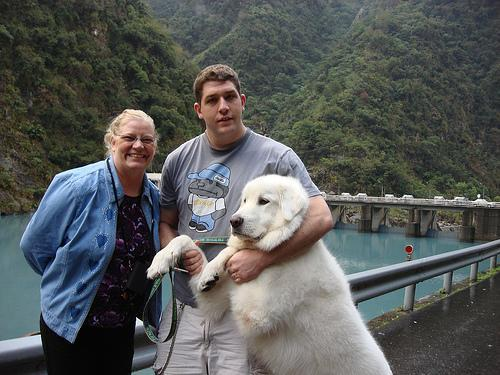Great_Pyrenees: (144, 172, 393, 374)
